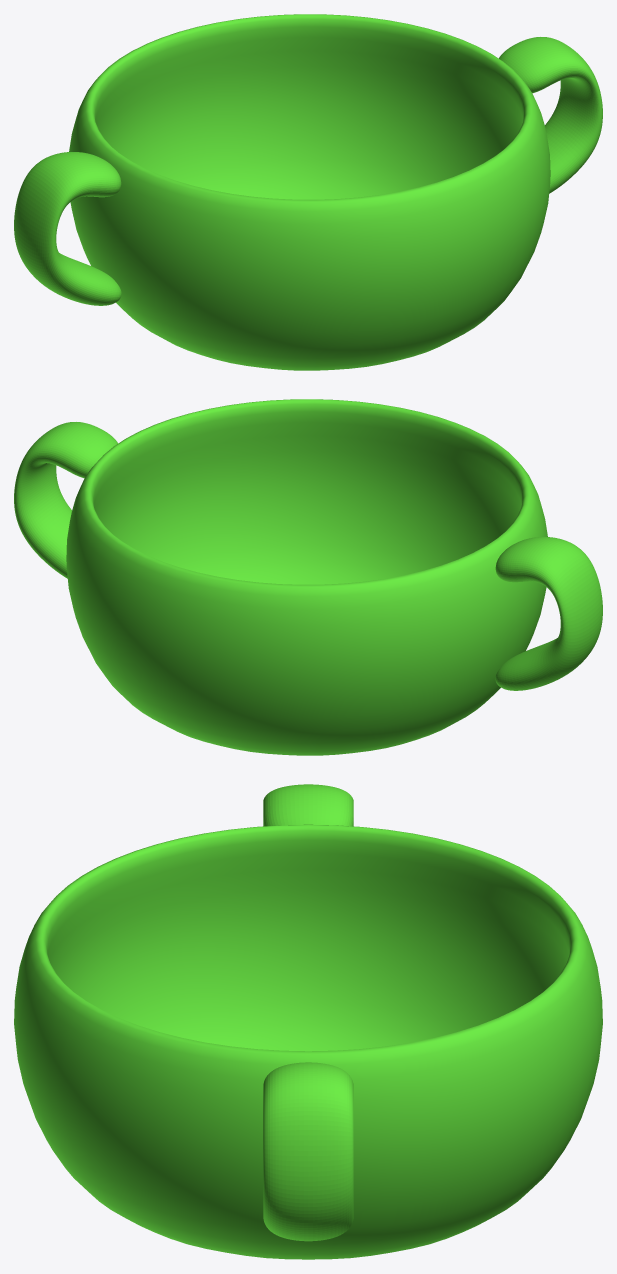
Rendered from bowl.glb.
The picture shows the model from 3 angles, top to bottom: view 1: azimuth 30°, elevation 25°; view 2: azimuth 150°, elevation 25°; view 3: azimuth 270°, elevation 25°; orthographic projection. The views are drawn at different scales.
Visible parts, largest first — view 1: Vert, Plane.001, Plane; view 2: Vert, Plane.001, Plane; view 3: Vert, Plane, Plane.001.
Part boxes in pixels (bbox=[...]): Vert: bbox=[69, 14, 550, 370]; Plane.001: bbox=[14, 152, 121, 305]; Plane: bbox=[499, 37, 602, 193]; Vert: bbox=[66, 399, 547, 755]; Plane.001: bbox=[495, 537, 602, 690]; Plane: bbox=[14, 422, 117, 578]; Vert: bbox=[14, 824, 602, 1259]; Plane: bbox=[263, 1062, 353, 1241]; Plane.001: bbox=[263, 784, 353, 826].
Size of the model in its own units: 6.44 by 2.34 by 4.76.
